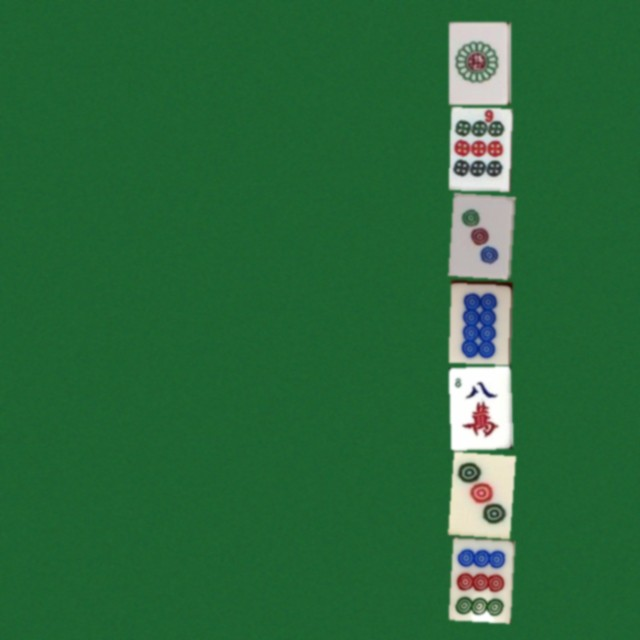tile: (448, 21, 510, 104), (448, 107, 510, 190), (448, 193, 510, 276), (448, 279, 510, 362), (448, 365, 510, 448), (448, 451, 510, 534), (448, 537, 510, 620)
